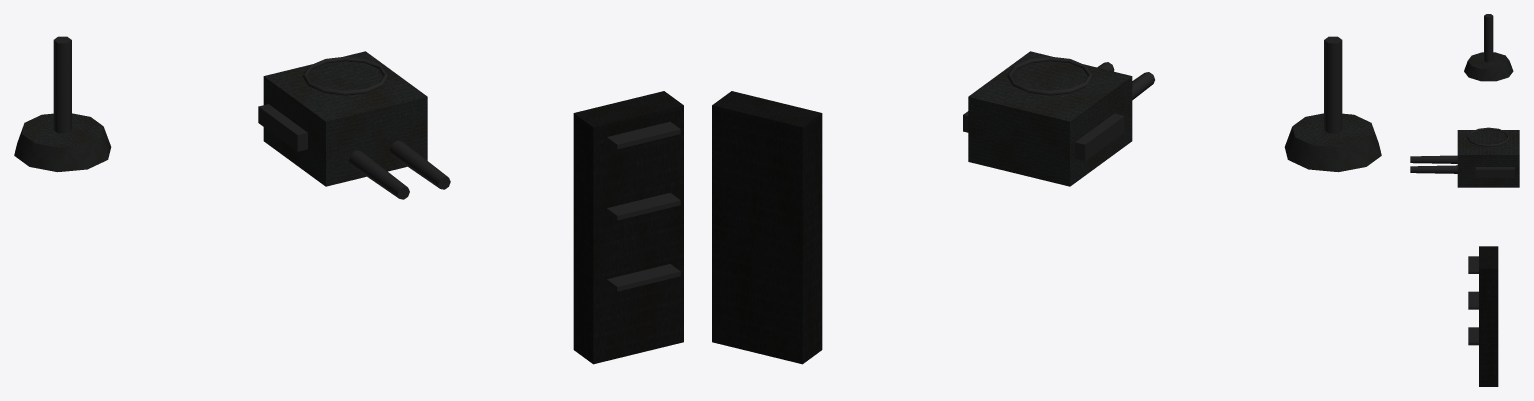
Rendered from motion.glb.
3 renders of one model, left to right at view 1: azimuth 30°, elevation 25°; view 2: azimuth 150°, elevation 25°; view 3: azimuth 270°, elevation 25°, orthographic. The views are drawn at different scales.
Parts seen in each view (by area): view 1: signal_panel, turret_head, turret_base; view 2: signal_panel, turret_head, turret_base; view 3: turret_head, signal_panel, turret_base.
Part boxes in pixels (bbox=[...]): signal_panel: bbox=[573, 91, 683, 364]; turret_head: bbox=[258, 51, 450, 199]; turret_base: bbox=[14, 36, 111, 172]; signal_panel: bbox=[712, 91, 822, 364]; turret_head: bbox=[963, 51, 1154, 186]; turret_base: bbox=[1284, 36, 1381, 172]; turret_head: bbox=[1410, 127, 1519, 187]; signal_panel: bbox=[1468, 246, 1498, 386]; turret_base: bbox=[1464, 14, 1513, 81].
Bounding box in the file's own units: 5.76 × 3.75 × 1.68.
Materials: 3 (2 with a texture image).
